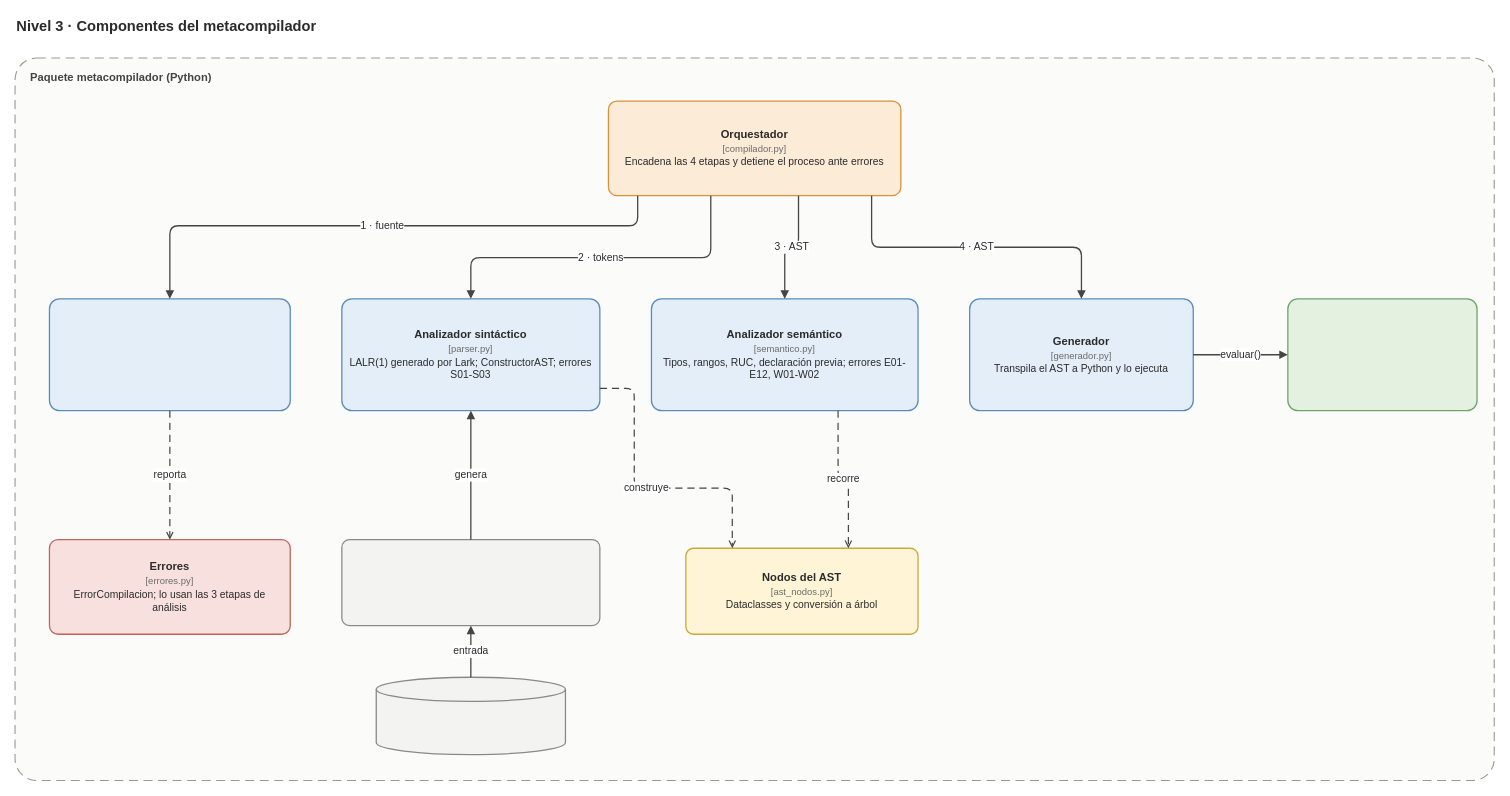
Some shapes in this 1510 by 796 pixel diagram are drawn without their labels. The centre of each missing label's shape, as x and y in pixels:
Analizador léxico [lexer.py] Expresiones regulares → tokens; errores L01-L04: (x=169, y=354)
credix.lark [Gramática GLC]: (x=470, y=715)
Lark [Biblioteca · metacompilador] Genera el analizador a partir de la GLC: (x=470, y=582)
Runtime [runtime.py] Cuota francesa, cronograma, evaluación de políticas: (x=1382, y=354)
